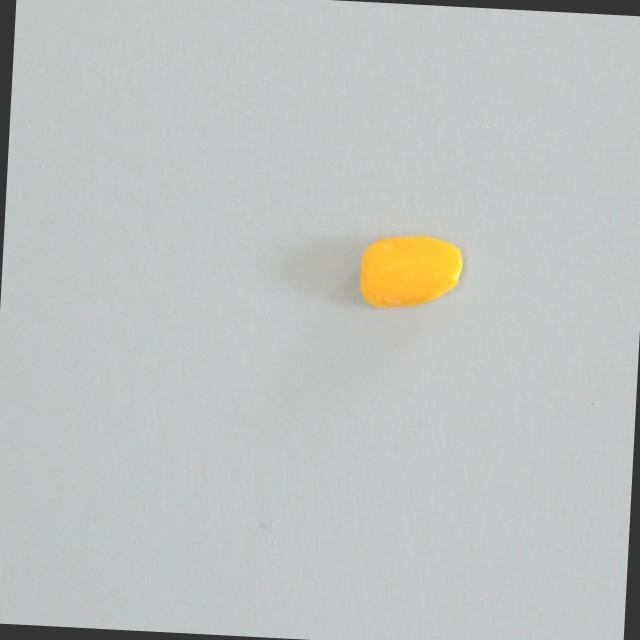estandar: (344, 223, 476, 312)
